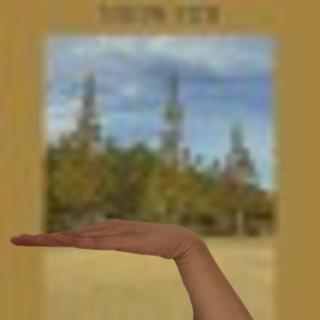WAIT: (1, 209, 200, 261)
